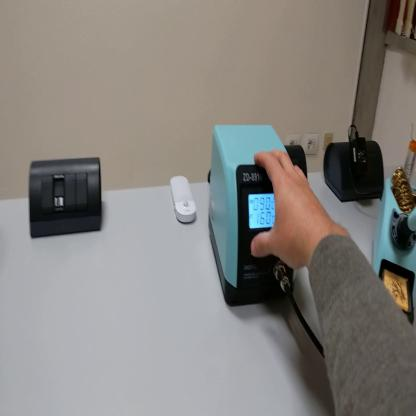hand: (252, 149, 325, 271)
socket: (323, 140, 386, 204), (285, 143, 310, 181)
welder base: (373, 140, 416, 325)
welder probe tip: (403, 201, 416, 253)
welder station: (210, 126, 302, 310)
